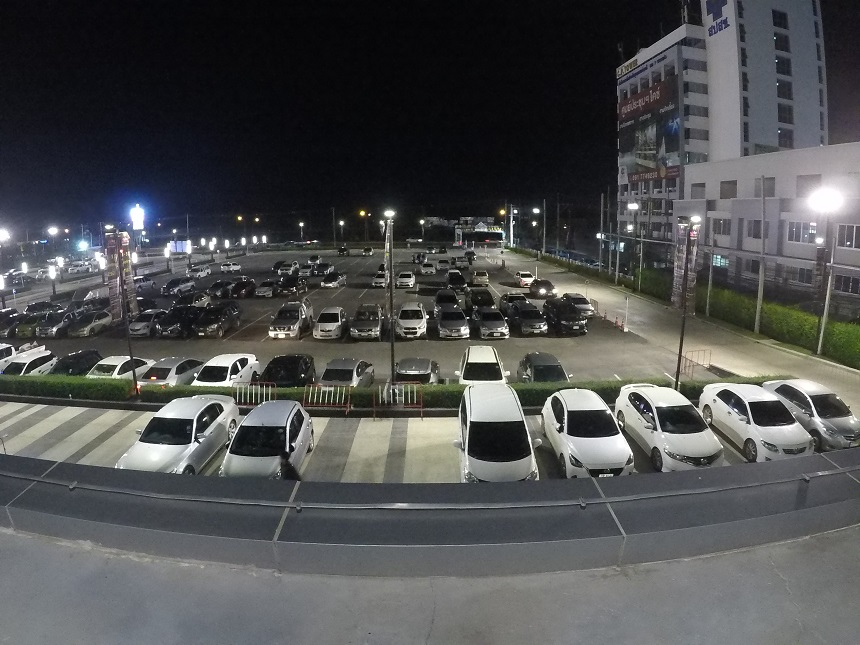busy: (554, 426, 635, 474), (224, 428, 303, 472), (130, 425, 208, 465), (462, 435, 533, 477), (651, 421, 719, 464), (738, 416, 807, 454), (812, 405, 860, 444), (264, 349, 316, 385), (459, 348, 509, 379), (322, 356, 373, 385), (520, 350, 570, 379), (210, 353, 254, 382), (99, 350, 146, 376), (433, 309, 472, 340), (397, 355, 443, 380), (157, 351, 198, 379), (348, 313, 385, 340), (390, 315, 428, 340), (555, 309, 588, 336), (267, 318, 307, 340), (519, 313, 552, 337), (477, 319, 511, 340), (60, 350, 92, 371), (155, 316, 187, 337), (192, 316, 227, 335), (18, 355, 55, 372), (310, 318, 341, 338), (71, 318, 102, 337), (127, 318, 149, 335), (41, 320, 65, 335), (14, 322, 36, 335), (1, 343, 11, 361), (1, 322, 12, 334)
